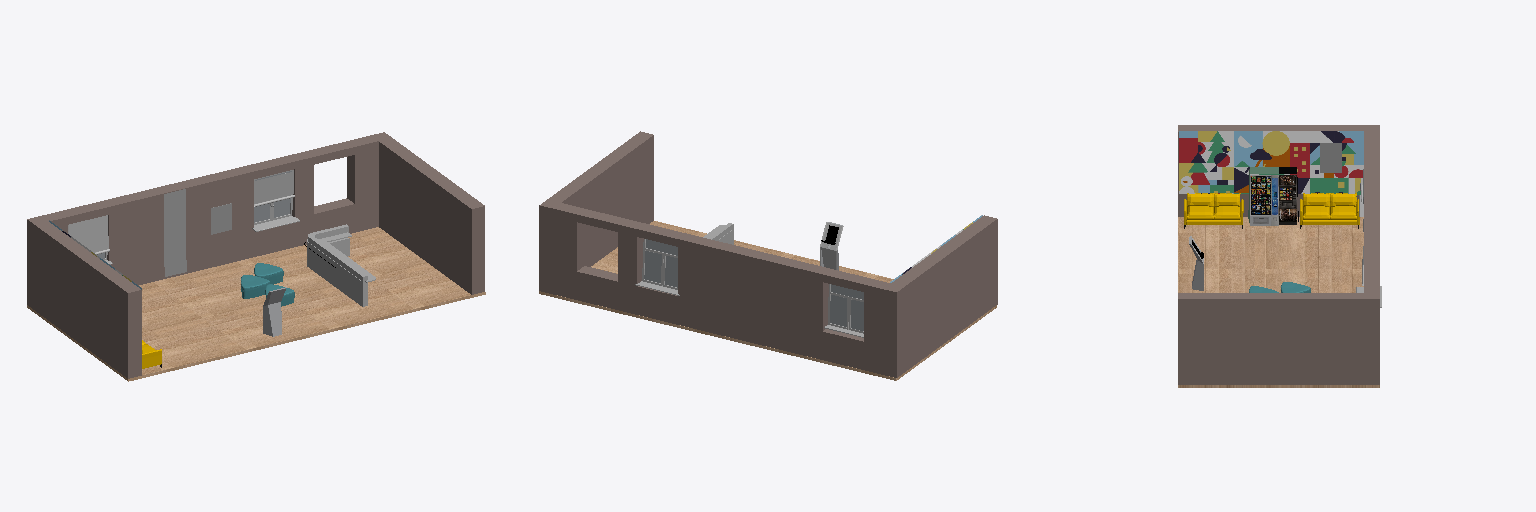
The picture shows the model from 3 angles: view 1: azimuth 30°, elevation 25°; view 2: azimuth 150°, elevation 25°; view 3: azimuth 270°, elevation 25°; orthographic projection.
Visible parts, largest first — view 1: Group_1071, Box003, Grid, L-Ext007, Circle038, Plane2584, Circle037, Object9429, Group_001, Rectangle3, Cylinder14.Cylinder10.Cylinder11.001_Cylinder14.001; view 2: Group_1071, Box003, Plane2584, Plane2585, Group_001; view 3: Group_1071, Box003, Grid.001, Box437, Box444, Grid.005, Grid.002, Grid.008.
Part boxes in pixels (bbox=[...]): Group_1071: bbox=[27, 132, 484, 378]; Box003: bbox=[27, 227, 485, 381]; Grid: bbox=[164, 189, 186, 276]; L-Ext007: bbox=[307, 238, 367, 306]; Circle038: bbox=[69, 215, 109, 254]; Plane2584: bbox=[252, 170, 299, 231]; Circle037: bbox=[254, 172, 294, 206]; Object9429: bbox=[308, 224, 367, 282]; Group_001: bbox=[263, 287, 286, 336]; Rectangle3: bbox=[211, 203, 231, 234]; Cylinder14.Cylinder10.Cylinder11.001_Cylinder14.001: bbox=[241, 275, 269, 298]; Group_1071: bbox=[539, 131, 997, 377]; Box003: bbox=[539, 221, 996, 380]; Plane2584: bbox=[635, 239, 679, 295]; Plane2585: bbox=[824, 284, 863, 337]; Group_001: bbox=[820, 222, 843, 270]; Group_1071: bbox=[1178, 125, 1379, 384]; Box003: bbox=[1178, 217, 1379, 387]; Grid.001: bbox=[1179, 131, 1363, 194]; Box437: bbox=[1300, 193, 1359, 228]; Box444: bbox=[1184, 193, 1243, 228]; Grid.005: bbox=[1250, 175, 1278, 225]; Grid.002: bbox=[1279, 175, 1296, 224]; Grid.008: bbox=[1320, 143, 1341, 172].
Bounding box in the file's own units: 1.31 × 0.3143 × 0.6455.
Materials: 30 (5 with a texture image).